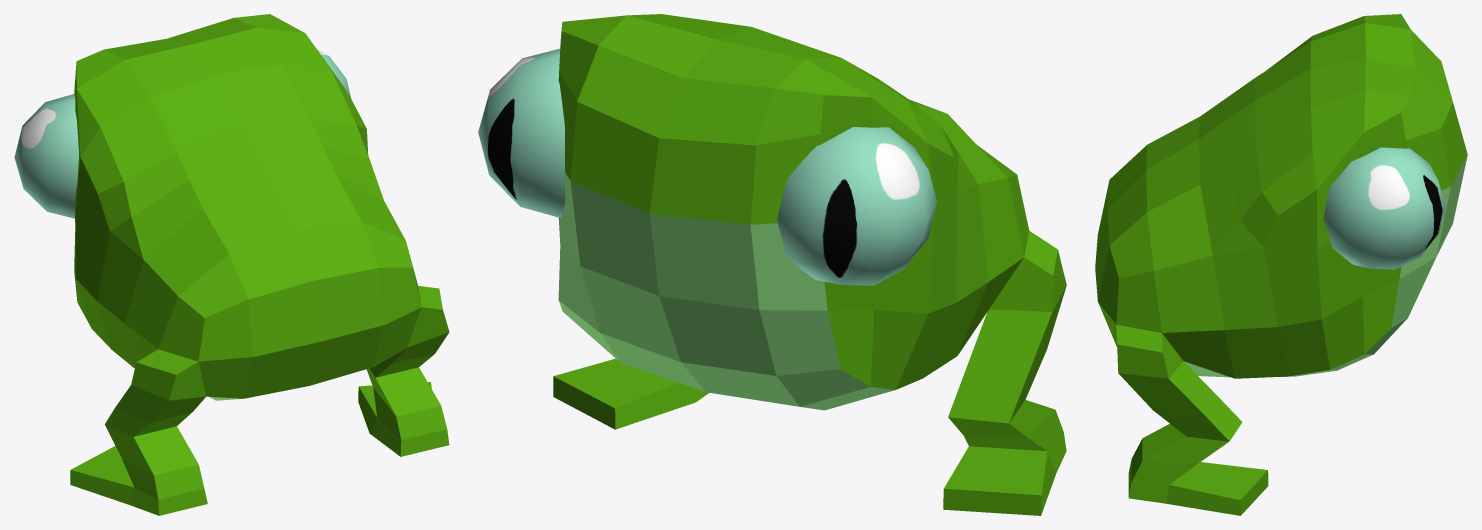
File: Yokai_Rana.fbx
The picture shows the model from 3 angles, left to right: view 1: azimuth 30°, elevation 25°; view 2: azimuth 150°, elevation 25°; view 3: azimuth 270°, elevation 25°; orthographic projection. The views are drawn at different scales.
Parts seen in each view (by area): view 1: Cubo, Esfera; view 2: Cubo, Esfera; view 3: Cubo, Esfera.
Part boxes in pixels (bbox=[...]): Cubo: bbox=[70, 14, 449, 515]; Esfera: bbox=[14, 49, 351, 218]; Cubo: bbox=[553, 14, 1066, 515]; Esfera: bbox=[478, 48, 936, 285]; Cubo: bbox=[1095, 14, 1467, 515]; Esfera: bbox=[1323, 147, 1445, 269].
Bounding box in the file's own units: 260 × 244 × 223.
3 materials, 1 textured.
